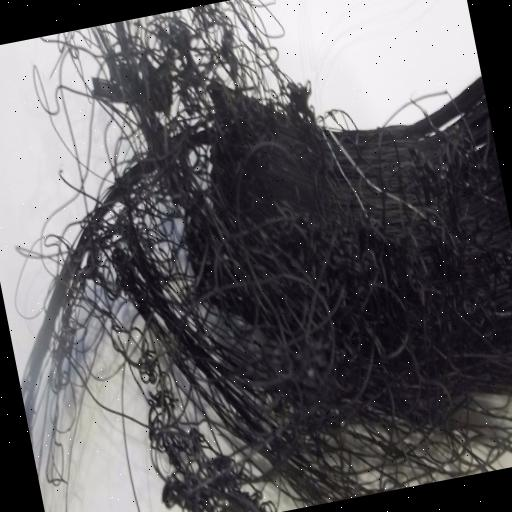spaghetti: (35, 0, 512, 512)
